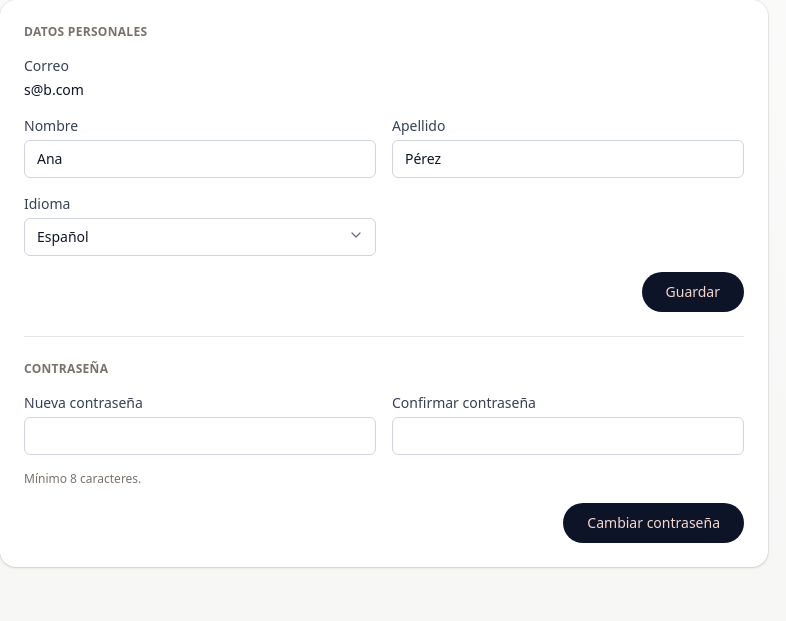
ProfileSection › shows the error when saving fails and keeps the form usable
This screenshot has width=786, height=621.
Expected: the field labelled "Nombre" is shown, [24,140,376,178]
What coordinates should you click on to do the following:
click the button "Guardar"
I would click on:
 (693, 292)
Its box is [642,272,744,312].
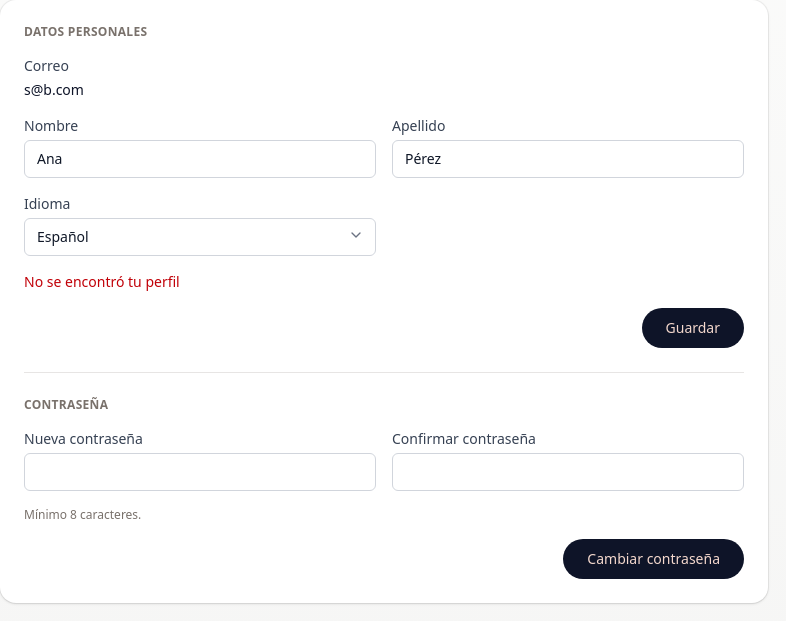
Expected: the button "Guardar" is enabled, [642,308,744,348]
Now the message reads "No se encontró tu perfil", box [24,272,180,291]
